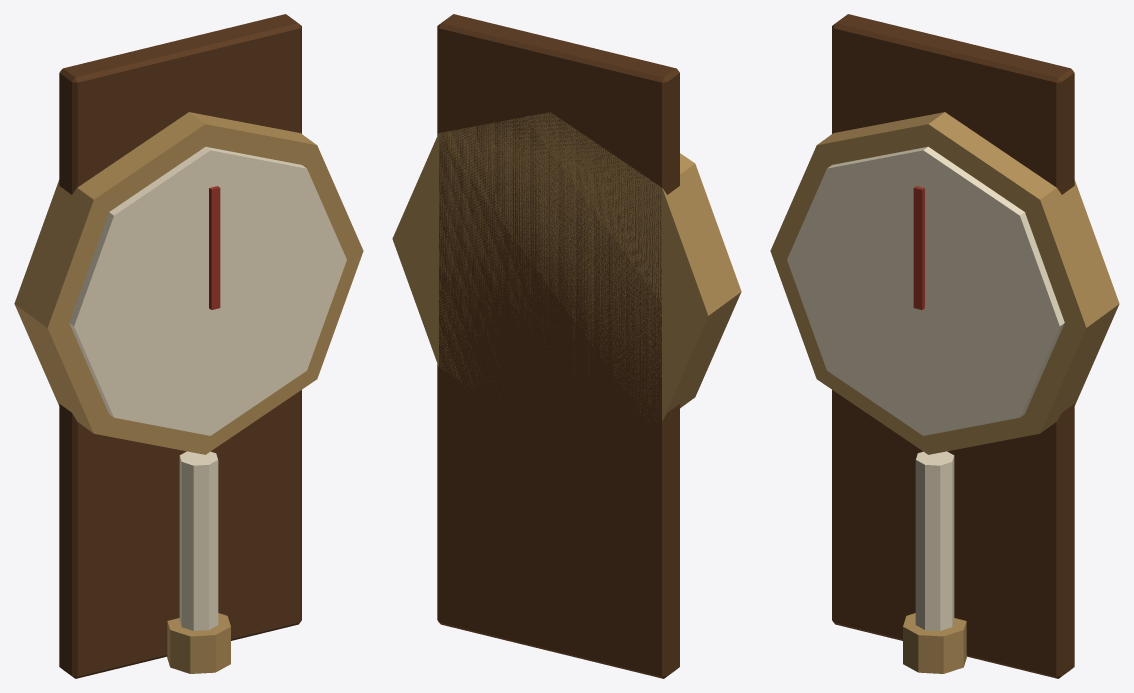
The model's file is Prop_OR_StormGlass_LOD1.glb.
The picture shows the model from 3 angles, left to right: view 1: azimuth 30°, elevation 25°; view 2: azimuth 150°, elevation 25°; view 3: azimuth 330°, elevation 25°; orthographic projection.
Visible parts, largest first — view 1: Prop_OR_StormGlass, Prop_OR_StormGlass_Needle; view 2: Prop_OR_StormGlass; view 3: Prop_OR_StormGlass, Prop_OR_StormGlass_Needle.
Boxes of the visible parts, <box> form: Prop_OR_StormGlass: <box>14,14,363,678</box>; Prop_OR_StormGlass_Needle: <box>209,186,220,309</box>; Prop_OR_StormGlass: <box>392,14,741,678</box>; Prop_OR_StormGlass: <box>770,14,1119,678</box>; Prop_OR_StormGlass_Needle: <box>913,186,924,309</box>.
Size of the model in its own units: 0.22 by 0.4 by 0.0525.
